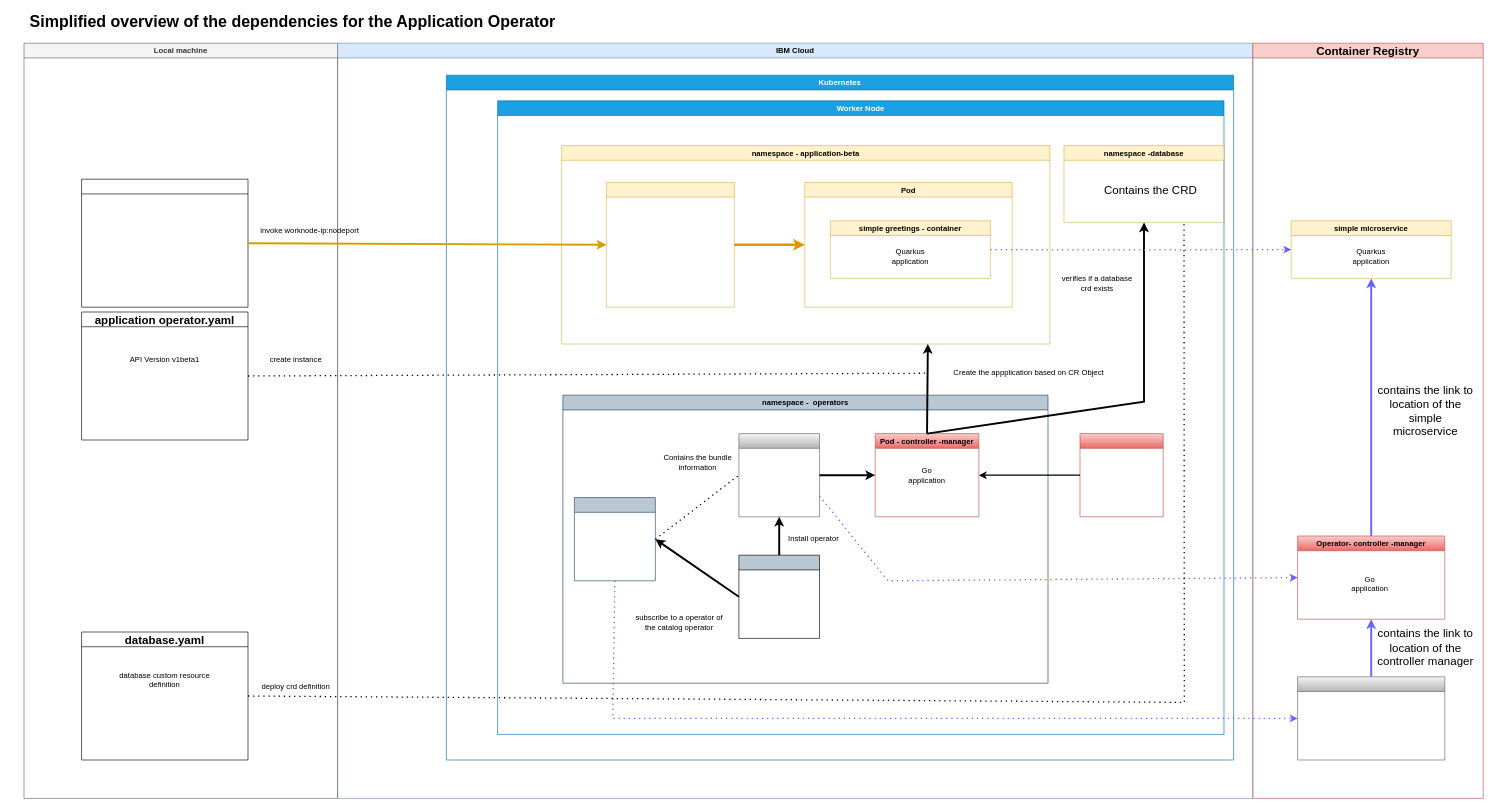
The diagram is 1494 pixels wide and 810 high, and some of its shapes have lost their labels. Here are the shapes that lost their labels. From the top down, the centre of each, then its label:
the point at 164,243: Browser
the point at 670,244: NodePort Service
the point at 779,475: Pod - Bundle
the point at 1121,475: Prometheus Server
the point at 614,539: Pod Calalog
the point at 779,596: Pod - Subscription
the point at 1371,718: Operator Bundle
